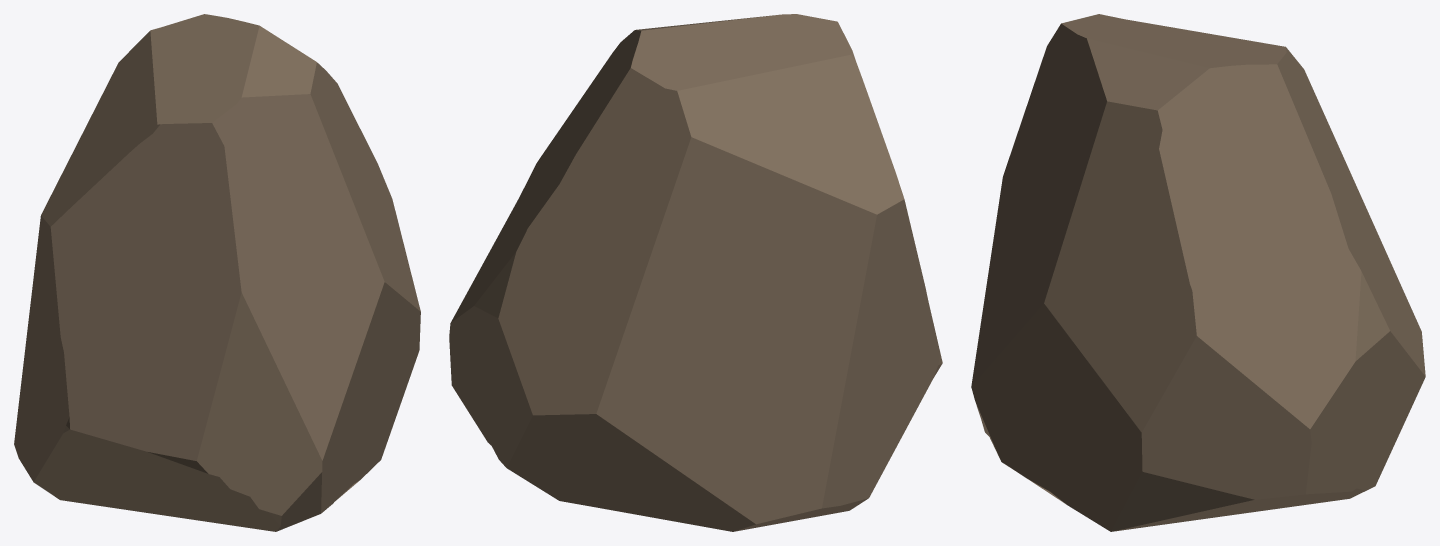
The model's file is rock_4.fbx.
3 views of the same model, side by side, from view 1: azimuth 30°, elevation 25°; view 2: azimuth 150°, elevation 25°; view 3: azimuth 270°, elevation 25° (orthographic). The views are drawn at different scales.
Visible parts, largest first — view 1: rock_4; view 2: rock_4; view 3: rock_4.
Boxes of the visible parts, box(x1,y1,x2,y2) form: rock_4: box(14, 14, 420, 531); rock_4: box(449, 14, 942, 531); rock_4: box(971, 14, 1425, 531).
Size of the model in its own units: 1.4 by 1.48 by 1.41.
